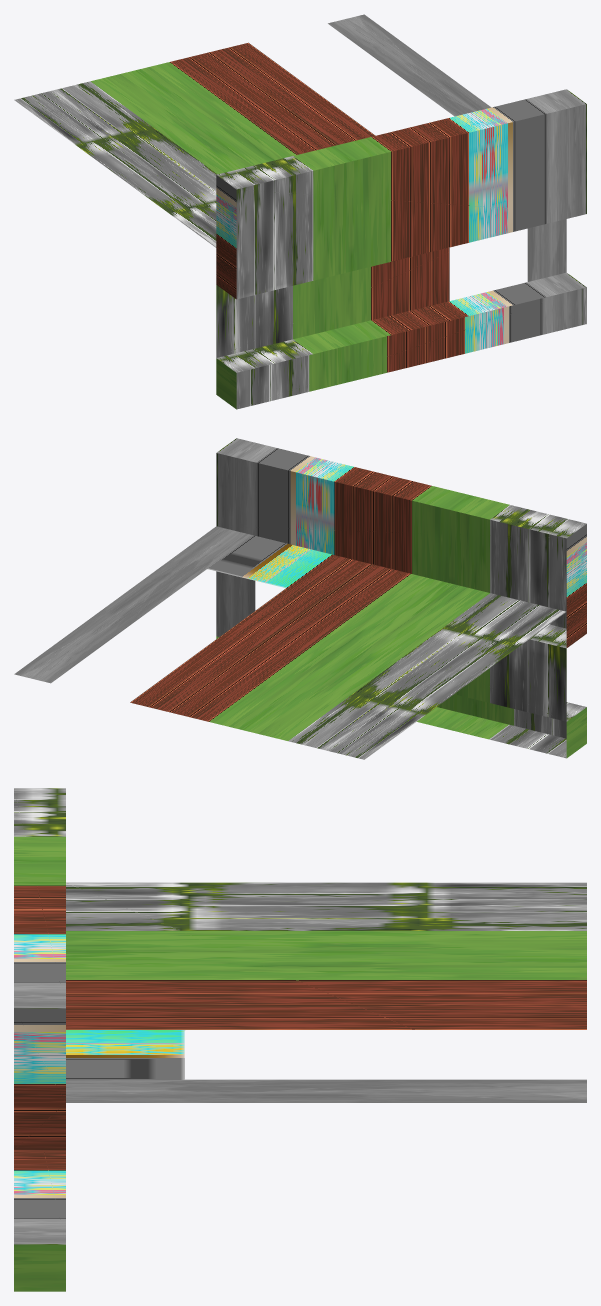
File: Roof_Side.fbx
3 renders of one model, top to bottom at view 1: azimuth 30°, elevation 25°; view 2: azimuth 150°, elevation 25°; view 3: azimuth 270°, elevation 25°, orthographic. The views are drawn at different scales.
Visible parts, largest first — view 1: Roof_Side; view 2: Roof_Side; view 3: Roof_Side.
Part boxes in pixels (<box>): Roof_Side: <box>14,14,586,409</box>; Roof_Side: <box>14,438,586,759</box>; Roof_Side: <box>14,788,586,1291</box>.
Size of the model in its own units: 1 by 1.1 by 0.6.
